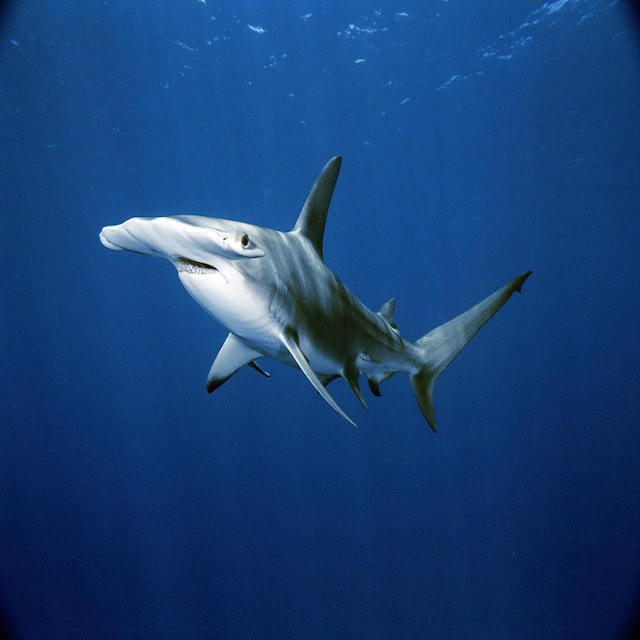hammerhead: (80, 173, 408, 370)
